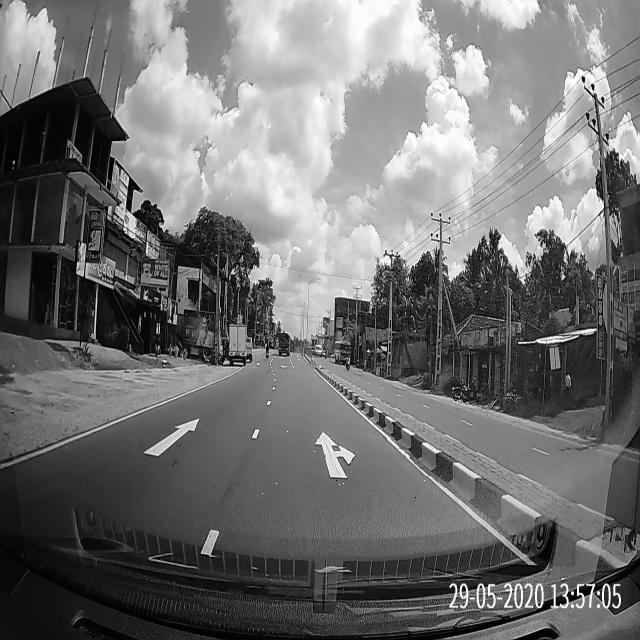forward_right: (215, 409, 466, 503), (228, 434, 439, 476), (236, 424, 412, 457), (228, 441, 428, 468), (236, 440, 407, 455)
